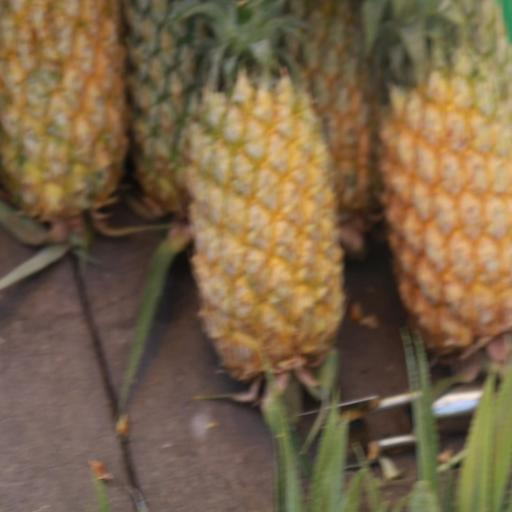Pineapple - v8 v1: (182, 0, 348, 393), (364, 1, 512, 362), (0, 1, 133, 241)
